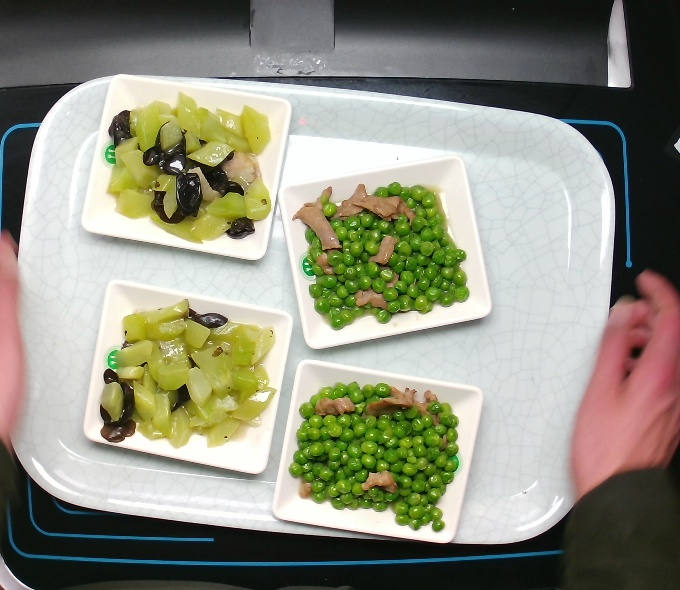wcq-CanDouRouSi: (293, 161, 472, 347), (289, 361, 460, 547)
wcq-WoSunKuai: (87, 294, 282, 462), (92, 86, 287, 254)
